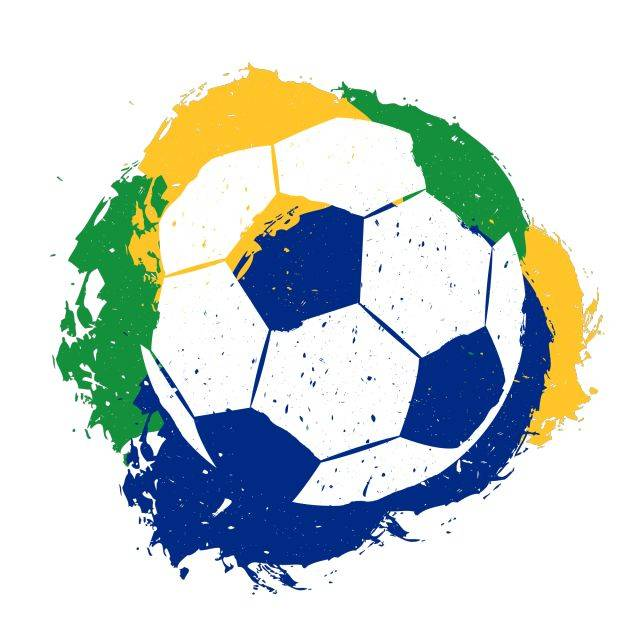football: (96, 75, 524, 505)
